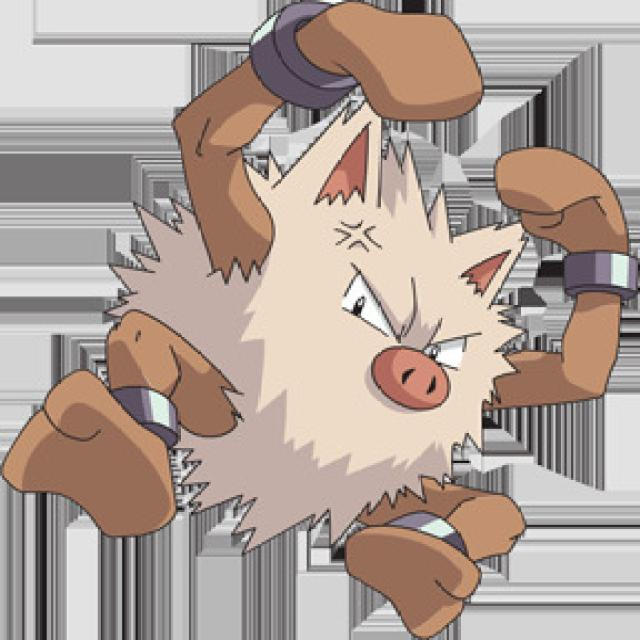Primeape: (96, 36, 568, 602)
